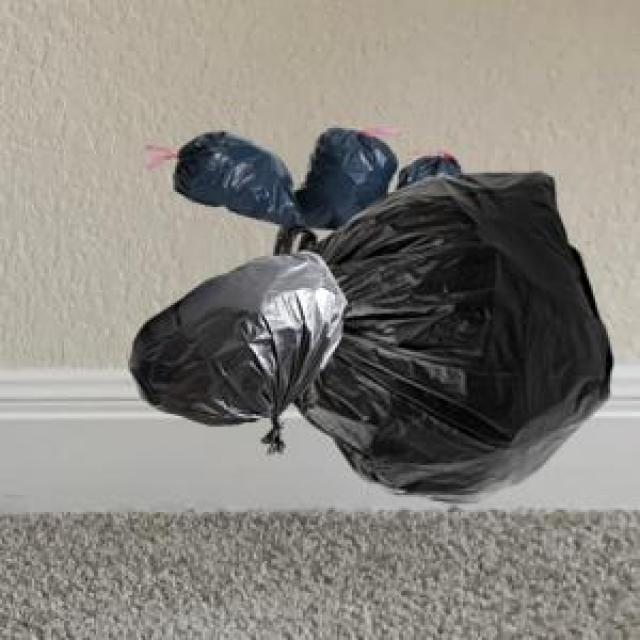waste: (130, 128, 609, 492)
